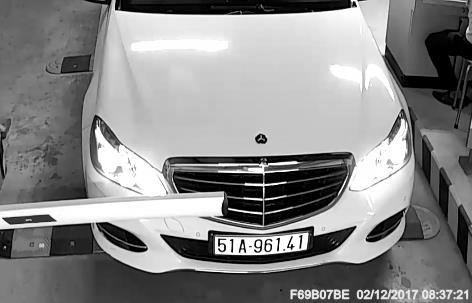License-plate: (206, 227, 319, 268)
